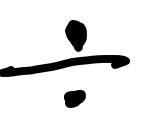div: (0, 20, 130, 108)
